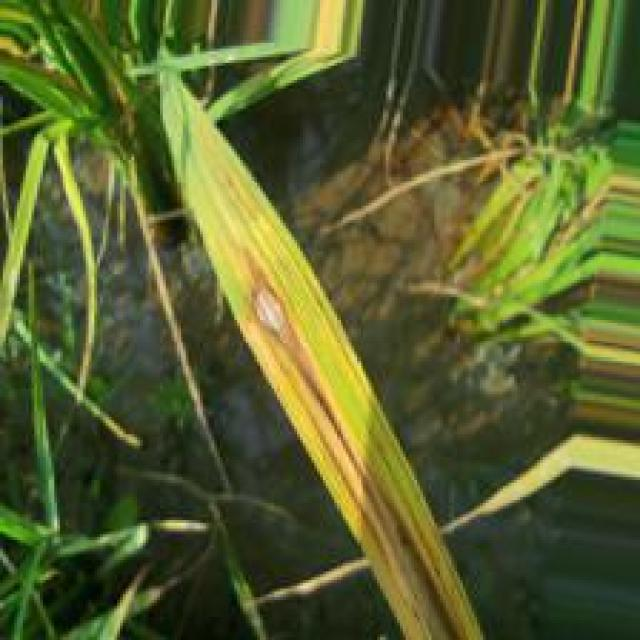Leaf_Blast: (192, 92, 491, 640)
